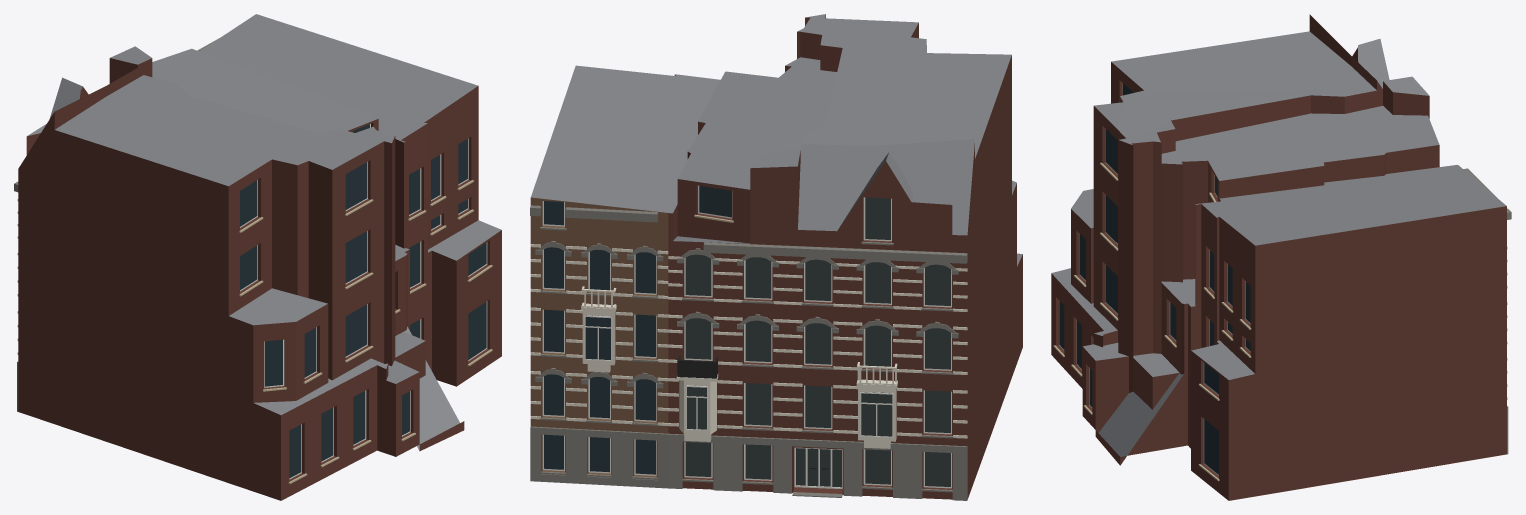
Rendered from recipe-large-van-eeghenstraat-97-237151.glb.
The picture shows the model from 3 angles, left to right: view 1: azimuth 30°, elevation 25°; view 2: azimuth 150°, elevation 25°; view 3: azimuth 270°, elevation 25°; orthographic projection. The views are drawn at different scales.
Visible parts, largest first — view 1: van-eeghenstraat-97-237151; view 2: van-eeghenstraat-97-237151; view 3: van-eeghenstraat-97-237151.
Part boxes in pixels (x1,y1,x2,y2): van-eeghenstraat-97-237151: (14, 14, 501, 500); van-eeghenstraat-97-237151: (530, 14, 1022, 500); van-eeghenstraat-97-237151: (1051, 14, 1511, 500).
Size of the model in its own units: 25.51 by 18.61 by 25.27.
